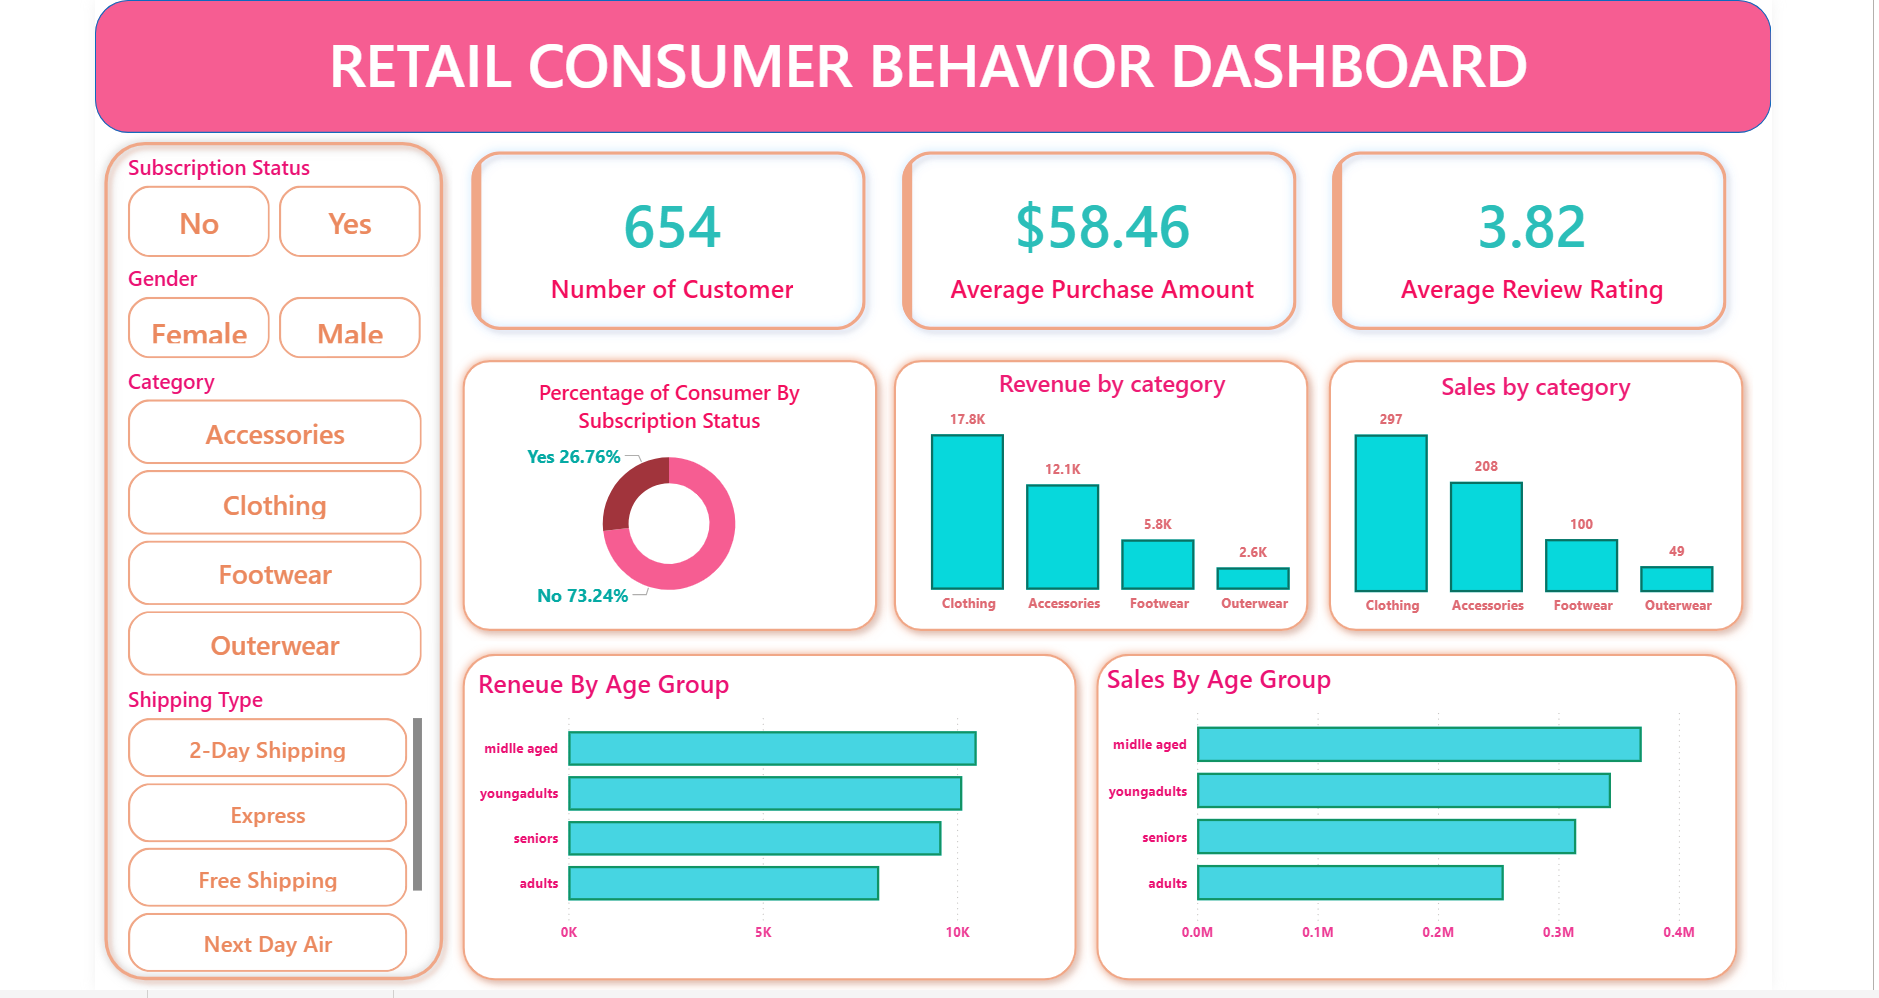

This screenshot's page, from the dashboard's own definition file:
{"tool":"powerbi","page":{"name":"Page 1","canvas":[1500,886],"ordinal":0},"visuals":[{"type":"cardVisual","fields":{"Data":["customer.number of customer","customer.average of purchase amount","customer.average review rating"]},"box":[320,119,1159.4,194.6],"z":0},{"type":"shape","box":[0,0,1500.3,119],"z":1000},{"type":"textbox","box":[32.2,16.1,1426.4,85.2],"z":2000},{"type":"shape","box":[320,313.6,389.2,260.5],"z":3000},{"type":"donutChart","title":"Percentage of Consumer By Subscription Status","fields":{"Category":["customer.subscription_status"],"Y":["CountNonNull(customer.customer_id)"]},"box":[337.7,337.7,352.2,212.3],"z":4000},{"type":"shape","box":[1095.1,313.6,389.2,260.5],"z":5000},{"type":"shape","box":[705.9,313.6,389.2,260.5],"z":6000},{"type":"clusteredColumnChart","title":"Revenue by category","fields":{"Y":["Sum(customer.purchase_amount)"],"Category":["customer.category"]},"box":[709.2,328,402,230],"z":7000},{"type":"clusteredColumnChart","title":"Sales by category","fields":{"Y":["CountNonNull(customer.purchase_amount)"],"Category":["customer.category"]},"box":[1088.7,329.7,402,230],"z":8000},{"type":"shape","box":[0,119,320,767],"z":9000},{"type":"advancedSlicerVisual","fields":{"Values":["customer.subscription_status"]},"box":[24.1,136.7,273.4,99.7],"z":10000},{"type":"advancedSlicerVisual","fields":{"Values":["customer.gender"]},"box":[24.1,236.4,273.4,90.1],"z":11000},{"type":"advancedSlicerVisual","fields":{"Values":["customer.category"]},"box":[24.1,328,273.4,284.6],"z":12000},{"type":"advancedSlicerVisual","fields":{"Values":["customer.shipping_type"]},"box":[24.1,612.7,273.4,262.1],"z":13000},{"type":"shape","box":[320,575.7,567.6,310.4],"z":14000},{"type":"clusteredBarChart","title":"Reneue By Age Group","fields":{"Y":["Sum(customer.purchase_amount)"],"Category":["customer.age_group"]},"box":[337.7,595,519.4,257.3],"z":15000},{"type":"shape","box":[887.7,575.7,591.8,310.4],"z":16000},{"type":"clusteredBarChart","title":"Sales By Age Group","fields":{"Category":["customer.age_group"],"Y":["Sum(customer.customer_id)"]},"box":[900.5,590.2,537.1,262.1],"z":17000}]}

Visuals, with their boxes in screenshot pixels (x1, y1, x2, y2):
cardVisual - customer.number of customer x customer.average of purchase amount: {"x1": 439, "y1": 147, "x2": 1727, "y2": 363}
shape: {"x1": 83, "y1": 15, "x2": 1750, "y2": 147}
textbox: {"x1": 119, "y1": 33, "x2": 1704, "y2": 127}
shape: {"x1": 439, "y1": 363, "x2": 871, "y2": 653}
"Percentage of Consumer By Subscription Status" donutChart: {"x1": 458, "y1": 390, "x2": 850, "y2": 626}
shape: {"x1": 1300, "y1": 363, "x2": 1732, "y2": 653}
shape: {"x1": 867, "y1": 363, "x2": 1300, "y2": 653}
"Revenue by category" clusteredColumnChart: {"x1": 871, "y1": 379, "x2": 1318, "y2": 635}
"Sales by category" clusteredColumnChart: {"x1": 1293, "y1": 381, "x2": 1739, "y2": 637}
shape: {"x1": 83, "y1": 147, "x2": 439, "y2": 997}
advancedSlicerVisual - customer.subscription_status: {"x1": 110, "y1": 167, "x2": 414, "y2": 277}
advancedSlicerVisual - customer.gender: {"x1": 110, "y1": 277, "x2": 414, "y2": 377}
advancedSlicerVisual - customer.category: {"x1": 110, "y1": 379, "x2": 414, "y2": 695}
advancedSlicerVisual - customer.shipping_type: {"x1": 110, "y1": 695, "x2": 414, "y2": 987}
shape: {"x1": 439, "y1": 654, "x2": 1069, "y2": 997}
"Reneue By Age Group" clusteredBarChart: {"x1": 458, "y1": 676, "x2": 1035, "y2": 962}
shape: {"x1": 1069, "y1": 654, "x2": 1727, "y2": 997}
"Sales By Age Group" clusteredBarChart: {"x1": 1084, "y1": 670, "x2": 1680, "y2": 962}
